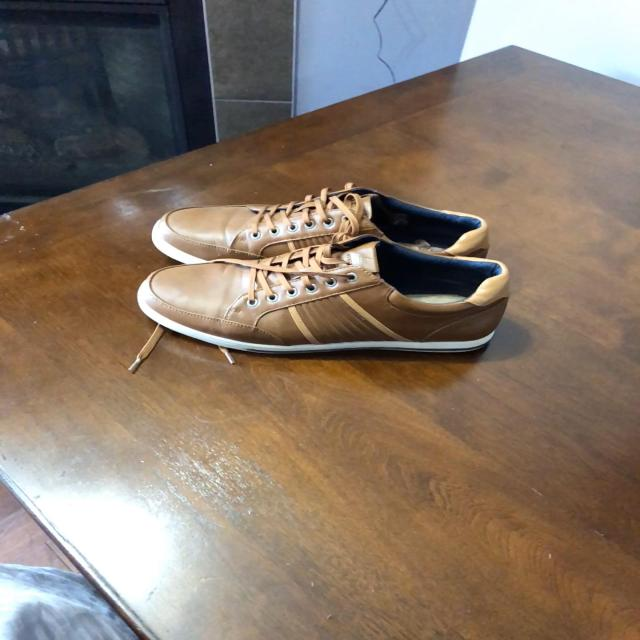shoe: (137, 240, 510, 361), (157, 184, 500, 299)
